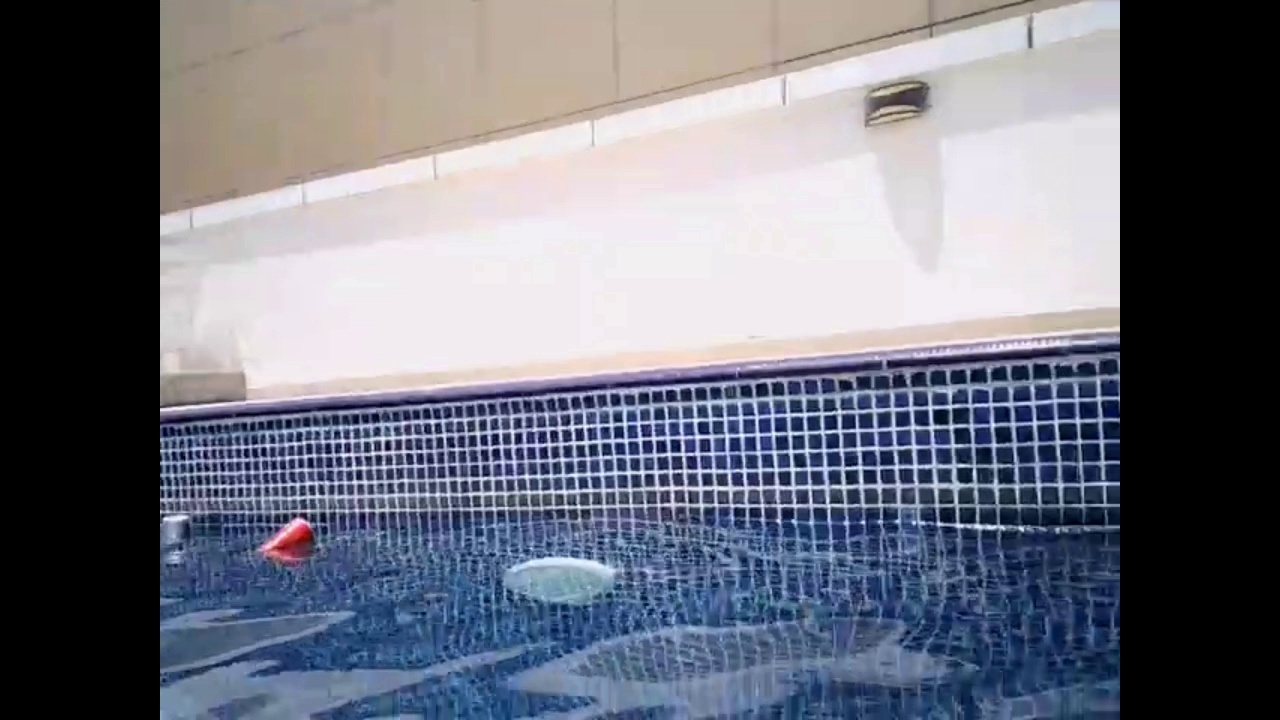debris: (250, 508, 320, 565), (161, 508, 199, 564)
